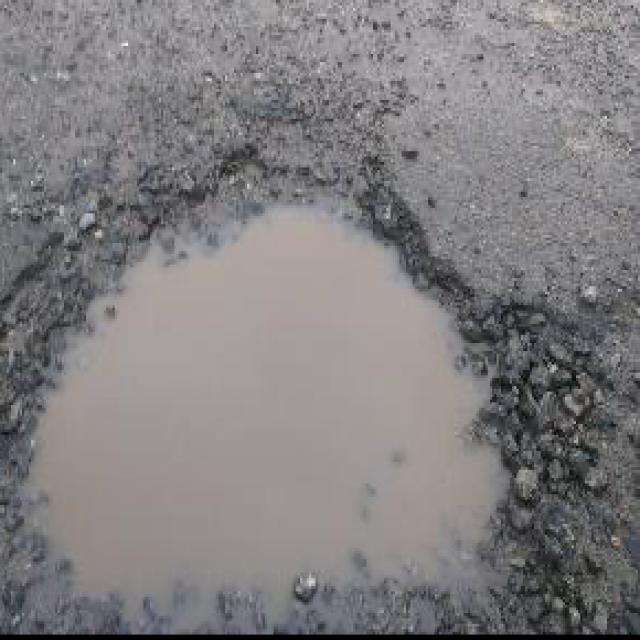pothole: (8, 150, 572, 625)
